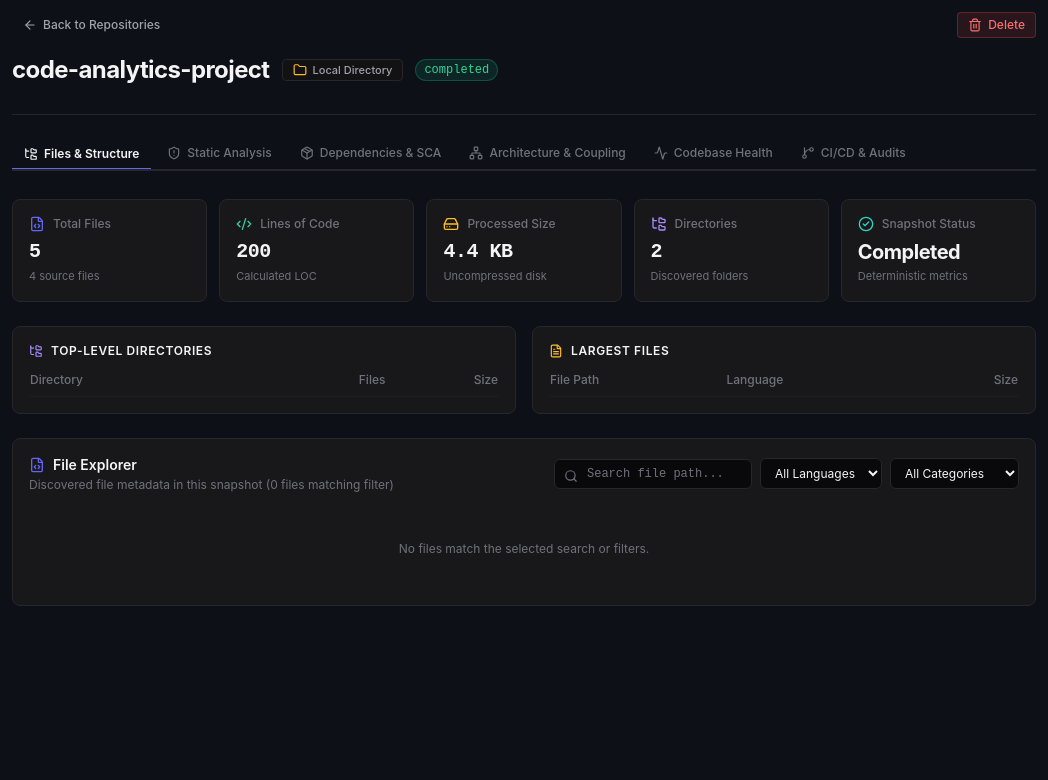
Scenario: Static Analysis Tab & Findings Exploration › switches to Static Analysis tab and displays analysis summary cards
The image size is (1048, 780).
# Click Static Analysis tab
Click the button "Static Analysis": (220,154) [155, 139, 284, 169]
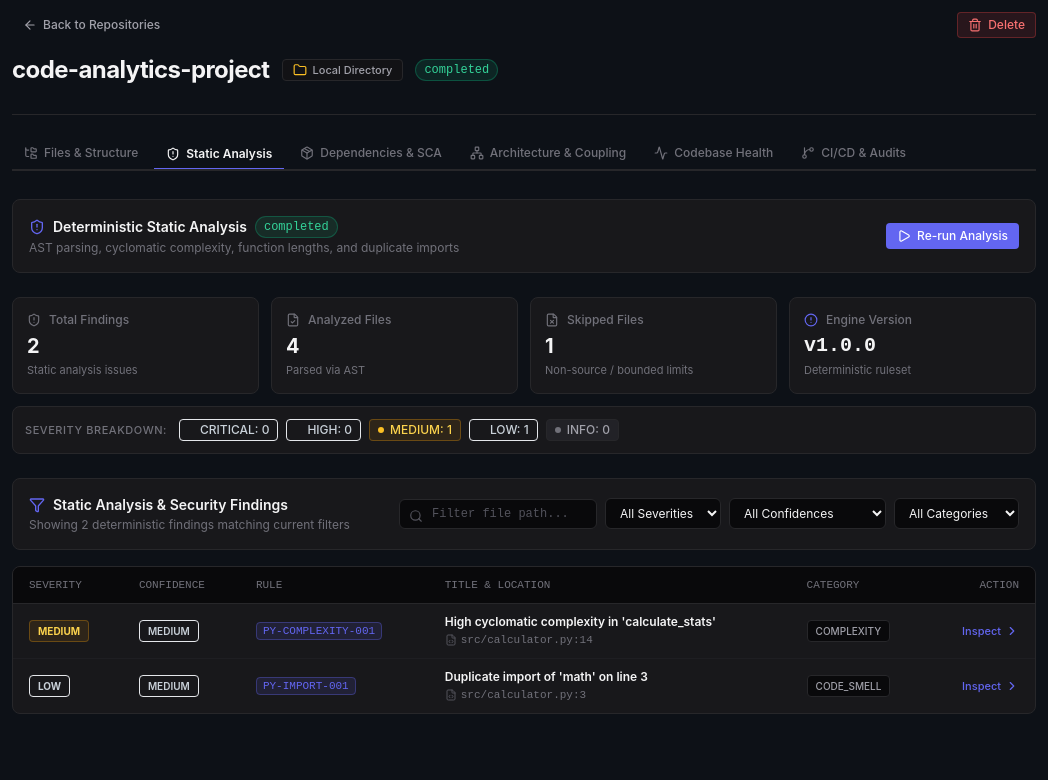
Check: the text "Total Findings" is shown, box [49, 312, 129, 328]
Check: the text "Analyzed Files" is shown, box [308, 312, 391, 328]
Check: the text "Engine Version" is shown, box [826, 312, 912, 328]
